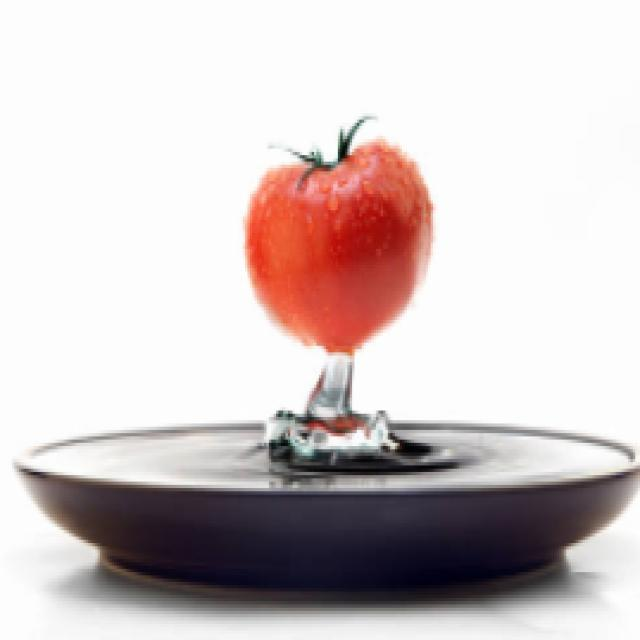Tomato: (233, 122, 437, 366)
